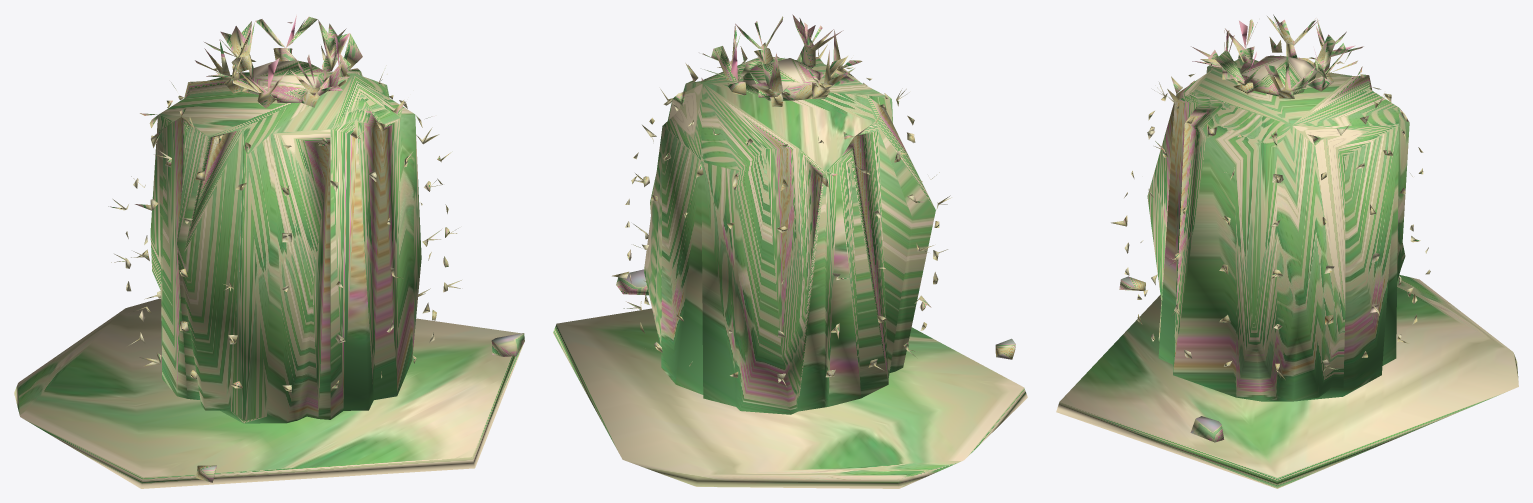
The model's file is barrel-cactus.glb.
3 renders of one model, left to right at view 1: azimuth 30°, elevation 25°; view 2: azimuth 150°, elevation 25°; view 3: azimuth 270°, elevation 25°, orthographic. The views are drawn at different scales.
Parts seen in each view (by area): view 1: barrel-cactus_body; view 2: barrel-cactus_body; view 3: barrel-cactus_body.
Boxes of the visible parts, x1,y1,x2,y2 form: barrel-cactus_body: (14, 15, 524, 488); barrel-cactus_body: (553, 14, 1027, 488); barrel-cactus_body: (1056, 14, 1518, 488).
Size of the model in its own units: 0.598 by 0.4503 by 0.5432.
Materials: 1 (1 with a texture image).
